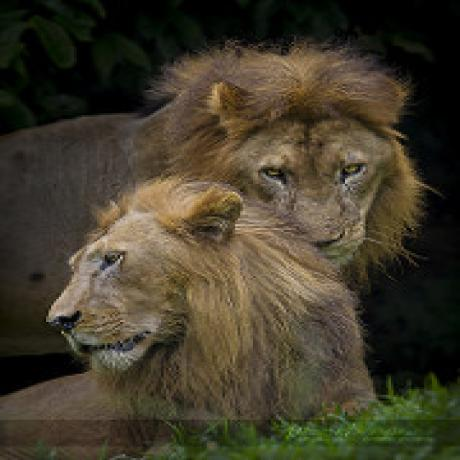Lion: (0, 34, 420, 325), (0, 172, 378, 460)
